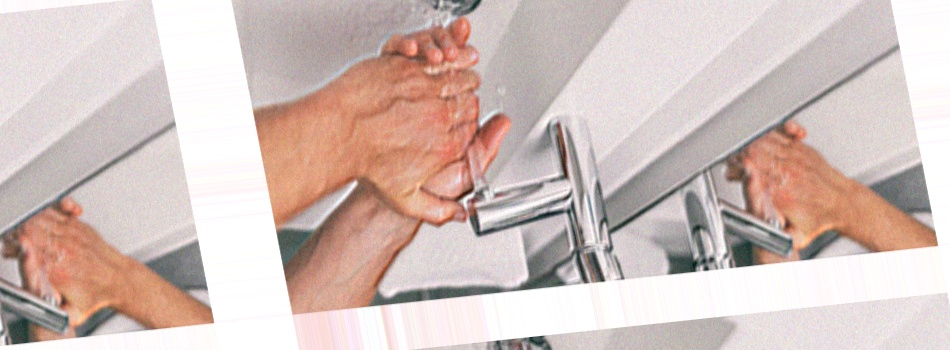washing hand: (351, 0, 554, 274)
